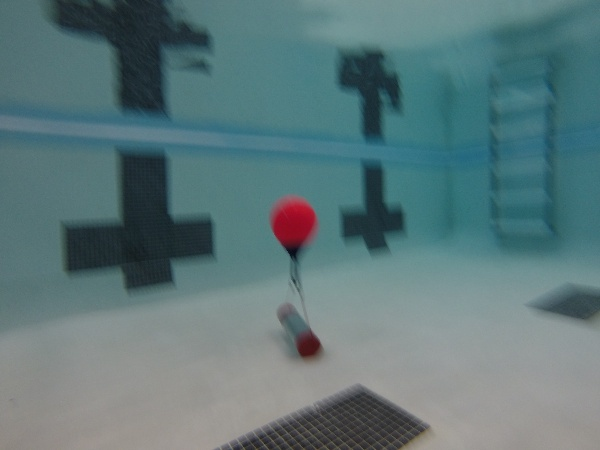buoy_red: (266, 195, 318, 261)
